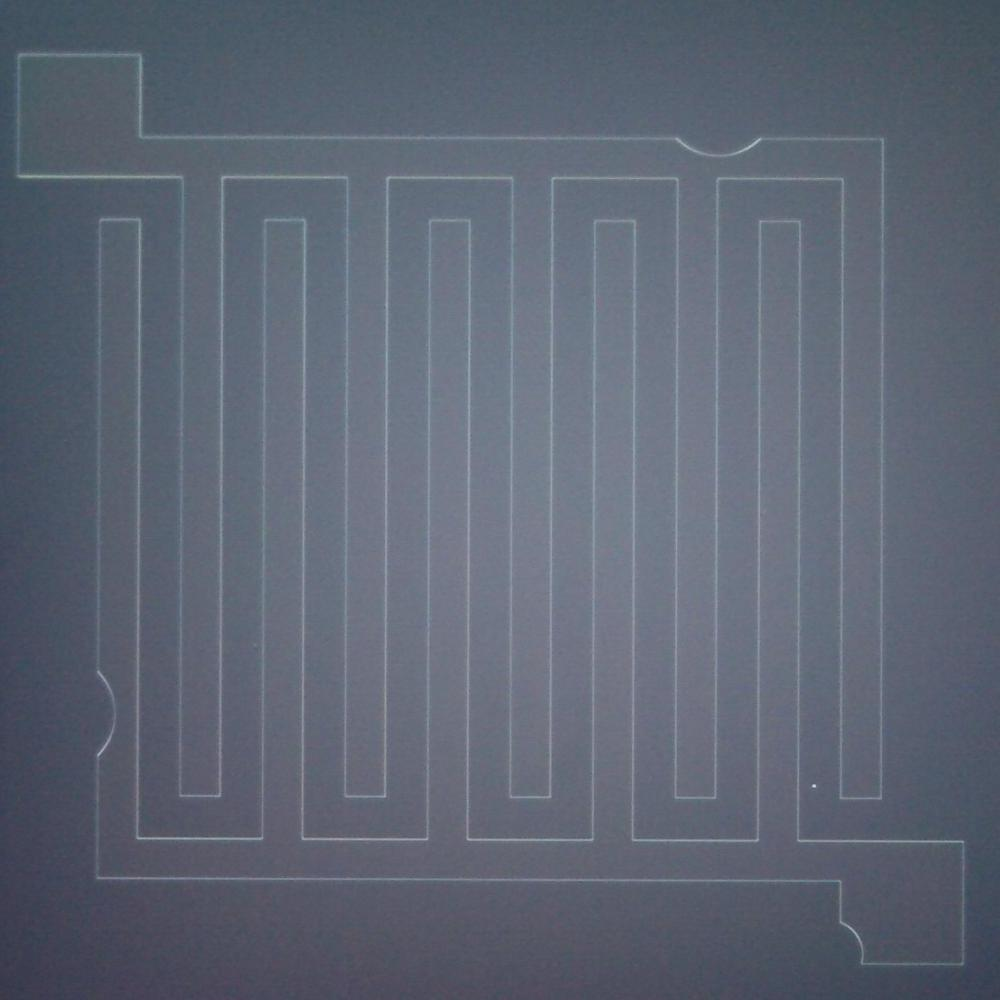curve circuit: (77, 656, 127, 767), (660, 122, 772, 168), (826, 904, 872, 981)
dot: (802, 771, 829, 800)
